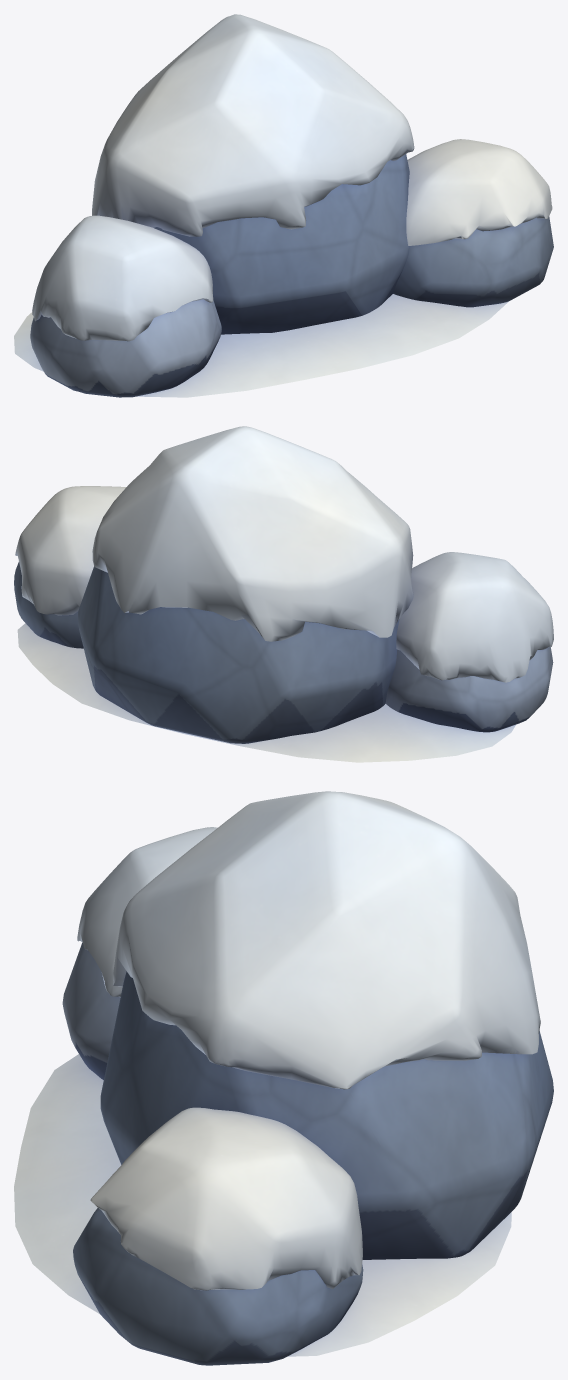
Rendered from FP_P03_SnowBoulders.fbx.
The picture shows the model from 3 angles, top to bottom: view 1: azimuth 30°, elevation 25°; view 2: azimuth 150°, elevation 25°; view 3: azimuth 270°, elevation 25°; orthographic projection. The views are drawn at different scales.
Visible parts, largest first — view 1: Snow, Rocks; view 2: Snow, Rocks; view 3: Snow, Rocks.
Boxes of the visible parts, <box> form: Snow: <box>14,14,552,397</box>; Rocks: <box>30,154,553,397</box>; Snow: <box>15,426,553,762</box>; Rocks: <box>14,562,553,743</box>; Snow: <box>14,791,540,1356</box>; Rocks: <box>62,942,553,1365</box>.
Size of the model in its own units: 2.52 by 1.23 by 1.54.
